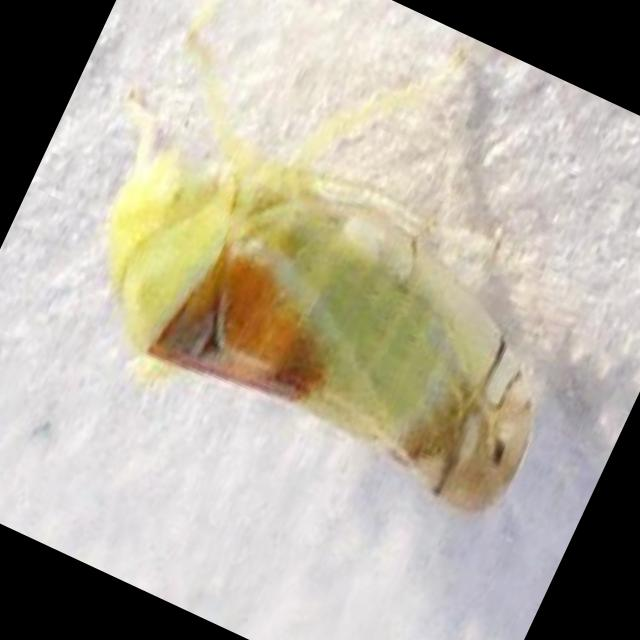green-leafhopper: (84, 88, 606, 518)
